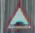Speed Breaker ahead: (3, 1, 33, 32)
